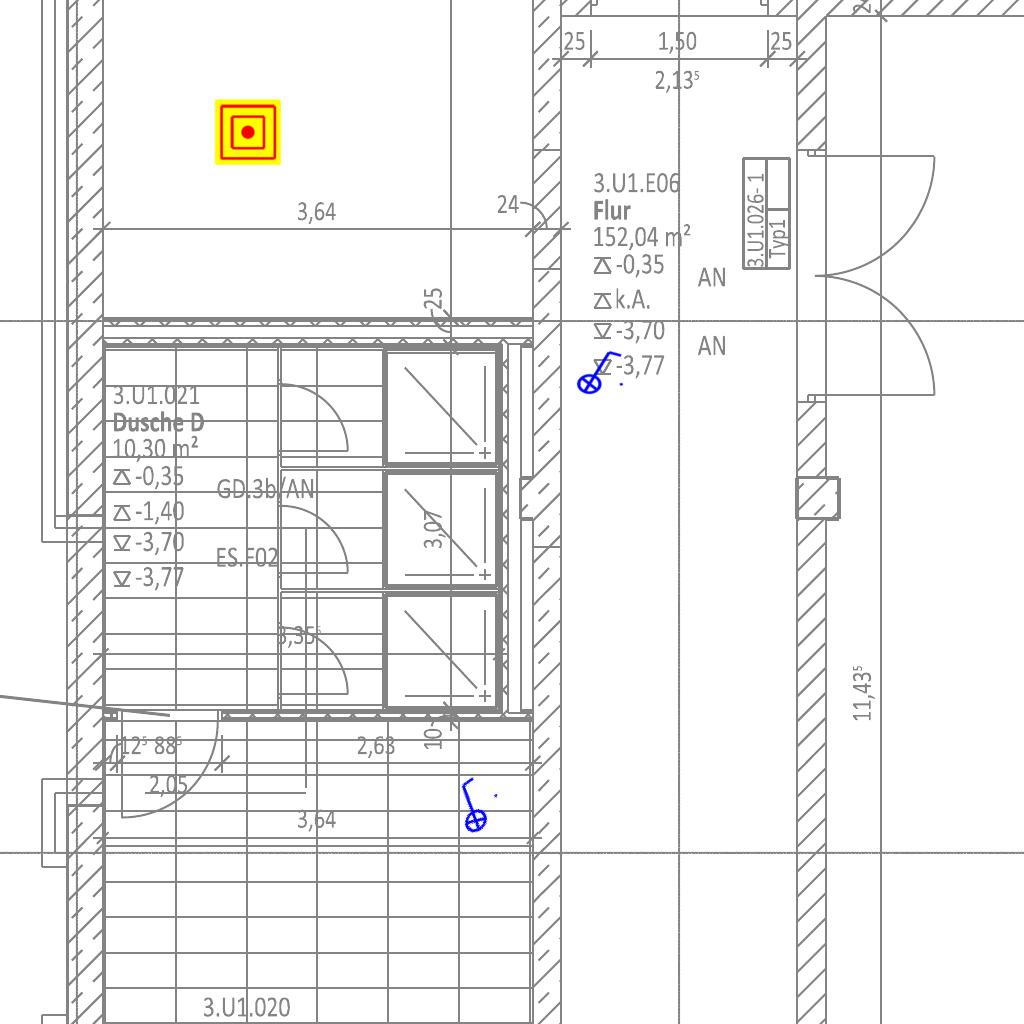Ausschalter_beleuchtet: (434, 769, 508, 843), (570, 347, 626, 395)
NAM-Nichtautomatischer_Melder: (215, 99, 281, 165)
